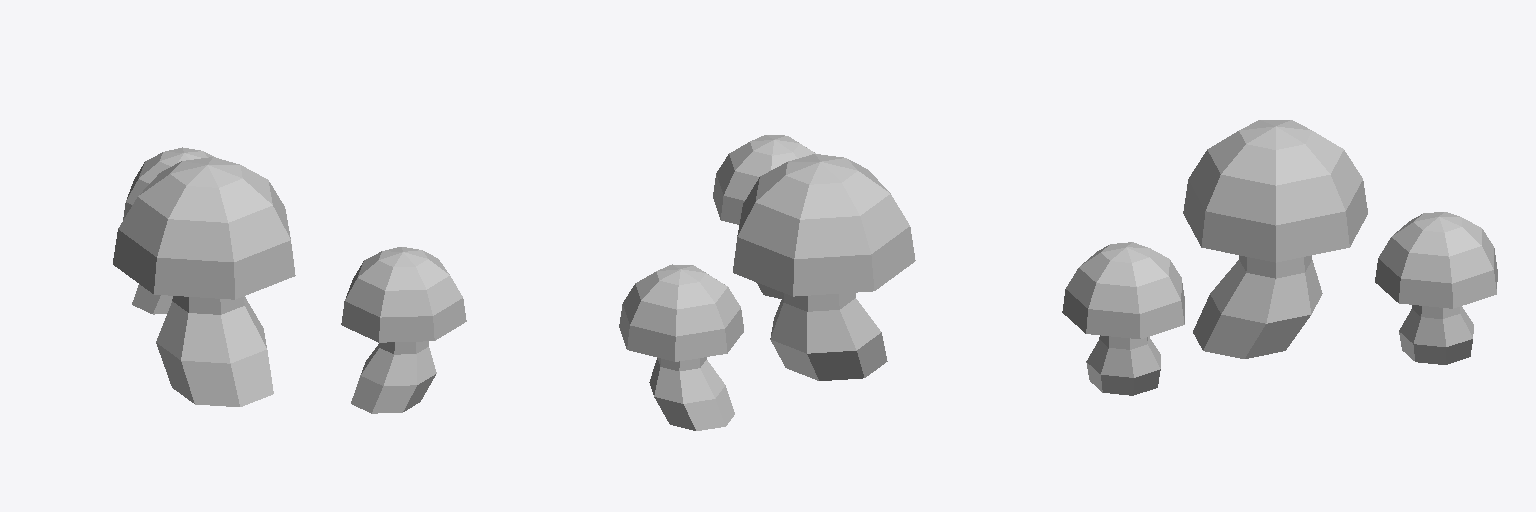
Rendered from mushrooms2.obj.
3 views of the same model, side by side, from view 1: azimuth 30°, elevation 25°; view 2: azimuth 150°, elevation 25°; view 3: azimuth 270°, elevation 25° (orthographic).
Parts seen in each view (by area): view 1: pSphere18; view 2: pSphere18; view 3: pSphere18.
Part boxes in pixels (bbox=[...]): pSphere18: bbox=[113, 147, 466, 413]; pSphere18: bbox=[619, 135, 915, 430]; pSphere18: bbox=[1062, 120, 1497, 395].
Size of the model in its own units: 0.9211 by 0.7395 by 1.39.